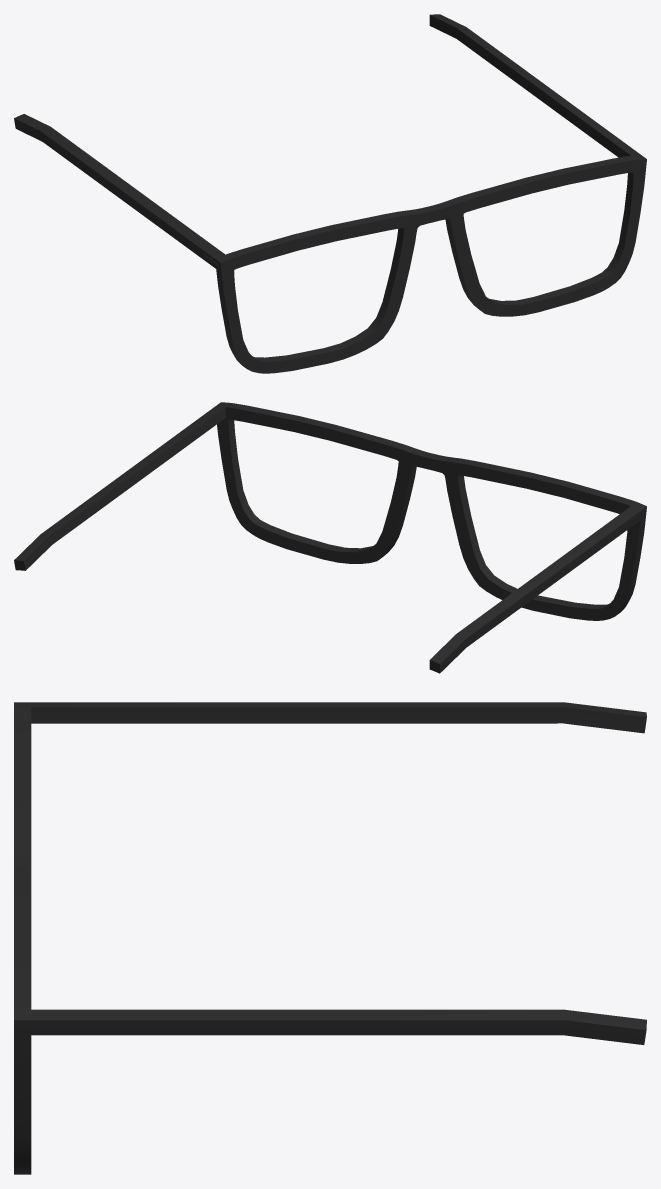
The model's file is glasses.glb.
3 views of the same model, one above another, from view 1: azimuth 30°, elevation 25°; view 2: azimuth 150°, elevation 25°; view 3: azimuth 270°, elevation 25° (orthographic). The views are drawn at different scales.
Parts seen in each view (by area): view 1: Plane.102; view 2: Plane.102; view 3: Plane.102.
Part boxes in pixels (x1,y1,x2,y2): Plane.102: [14, 14, 646, 373]; Plane.102: [14, 402, 646, 673]; Plane.102: [14, 702, 646, 1174].
Bounding box in the file's own units: 1.84 × 0.5461 × 1.55.
Materials: 1 (1 with a texture image).
